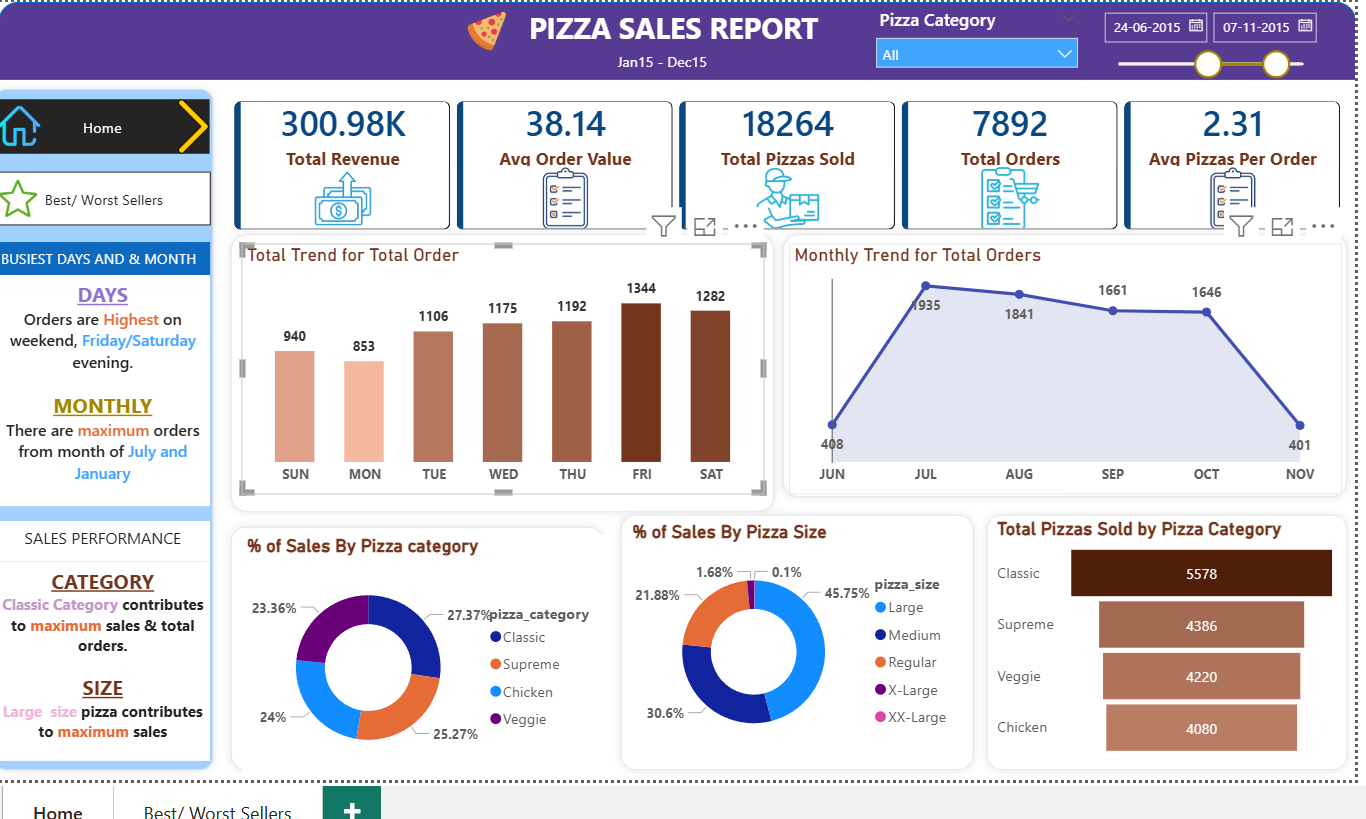

This screenshot's page, from the dashboard's own definition file:
{"tool":"powerbi","page":{"name":"Home","canvas":[1280,720],"ordinal":0},"visuals":[{"type":"cardVisual","fields":{"Data":["pizza_sales.Total Revenue","pizza_sales.Avg Order Value","pizza_sales.Total Pizzas Sold","pizza_sales.Total Orders","pizza_sales.Avg Pizzas Per Order"]},"box":[230.6,80.6,1050,141.7],"z":0},{"type":"shape","box":[23.6,0,1256.9,72.2],"z":1000},{"type":"textbox","box":[509.7,0,294.4,63.9],"z":2000},{"type":"textbox","box":[591.7,40.3,95.8,31.9],"z":3000},{"type":"image","box":[441.7,8.3,68.1,37.5],"z":4000},{"type":"shape","box":[230.6,206.9,519.4,273.6],"z":5000},{"type":"columnChart","title":"Total Trend for Total Order","fields":{"Category":["pizza_sales.Order Day"],"Y":["pizza_sales.Total Orders"]},"box":[248.6,223.6,484.7,231.9],"z":6000},{"type":"shape","box":[741.7,206.9,538.9,259.7],"z":7000},{"type":"areaChart","title":"Monthly Trend for Total Orders","fields":{"Y":["pizza_sales.Total Orders"],"Category":["pizza_sales.Order Month"]},"box":[755.6,223.6,512.5,231.9],"z":8000},{"type":"shape","box":[230.6,477.8,361.1,241.7],"z":9000},{"type":"shape","box":[591.7,466.7,343.1,252.8],"z":10000},{"type":"shape","box":[930.6,466.7,350,252.8],"z":11000},{"type":"donutChart","title":"% of Sales By Pizza category","fields":{"Category":["pizza_sales.pizza_category"],"Y":["pizza_sales.Total Revenue"]},"box":[248.6,493.1,343.1,226.4],"z":12000},{"type":"shape","box":[11.1,72.2,219.4,647.2],"z":13000},{"type":"donutChart","title":"% of Sales By Pizza Size","fields":{"Y":["pizza_sales.Total Revenue"],"Category":["pizza_sales.pizza_size"]},"box":[605.6,480.6,313.9,222.2],"z":14000},{"type":"funnel","title":"Total Pizzas Sold by Pizza Category","fields":{"Y":["pizza_sales.Total Pizzas Sold"],"Category":["pizza_sales.pizza_category"]},"box":[943.1,477.8,325,225],"z":15000},{"type":"textbox","box":[20.8,222.2,198.6,30.6],"z":16000},{"type":"textbox","box":[20.8,252.8,198.6,213.9],"z":17000},{"type":"textbox","box":[20.8,518.1,198.6,184.7],"z":18000},{"type":"textbox","box":[20.8,480.6,198.6,37.5],"z":19000},{"type":"slicer","fields":{"Values":["pizza_sales.order_date"]},"box":[1034.2,0,218,63.6],"z":20000},{"type":"slicer","fields":{"Values":["pizza_sales.pizza_category"]},"box":[826.4,0,206.9,63.9],"z":21000},{"type":"pageNavigator","box":[20.8,90.3,198.6,50],"z":22000},{"type":"pageNavigator","box":[22.2,156.9,198.6,50],"z":23000},{"type":"image","box":[177.8,90.3,52.8,50],"z":24000},{"type":"image","box":[23.6,86.1,38.9,56.9],"z":25000},{"type":"image","box":[20.8,163.9,41.7,36.1],"z":26000}]}

Visuals, with their boxes on the page's 1280x720 design canvas (x1, y1, x2, y2). These are canvas units, not pixel positions in the 1366x819 screenshot, which may show the page scaled, cropped or inside an application window:
cardVisual - pizza_sales.Total Revenue x pizza_sales.Avg Order Value: {"left": 231, "top": 81, "right": 1281, "bottom": 222}
shape: {"left": 24, "top": 0, "right": 1280, "bottom": 72}
textbox: {"left": 510, "top": 0, "right": 804, "bottom": 64}
textbox: {"left": 592, "top": 40, "right": 688, "bottom": 72}
image: {"left": 442, "top": 8, "right": 510, "bottom": 46}
shape: {"left": 231, "top": 207, "right": 750, "bottom": 480}
"Total Trend for Total Order" columnChart: {"left": 249, "top": 224, "right": 733, "bottom": 456}
shape: {"left": 742, "top": 207, "right": 1281, "bottom": 467}
"Monthly Trend for Total Orders" areaChart: {"left": 756, "top": 224, "right": 1268, "bottom": 456}
shape: {"left": 231, "top": 478, "right": 592, "bottom": 720}
shape: {"left": 592, "top": 467, "right": 935, "bottom": 720}
shape: {"left": 931, "top": 467, "right": 1281, "bottom": 720}
"% of Sales By Pizza category" donutChart: {"left": 249, "top": 493, "right": 592, "bottom": 720}
shape: {"left": 11, "top": 72, "right": 230, "bottom": 719}
"% of Sales By Pizza Size" donutChart: {"left": 606, "top": 481, "right": 920, "bottom": 703}
"Total Pizzas Sold by Pizza Category" funnel: {"left": 943, "top": 478, "right": 1268, "bottom": 703}
textbox: {"left": 21, "top": 222, "right": 219, "bottom": 253}
textbox: {"left": 21, "top": 253, "right": 219, "bottom": 467}
textbox: {"left": 21, "top": 518, "right": 219, "bottom": 703}
textbox: {"left": 21, "top": 481, "right": 219, "bottom": 518}
slicer - pizza_sales.order_date: {"left": 1034, "top": 0, "right": 1252, "bottom": 64}
slicer - pizza_sales.pizza_category: {"left": 826, "top": 0, "right": 1033, "bottom": 64}
pageNavigator: {"left": 21, "top": 90, "right": 219, "bottom": 140}
pageNavigator: {"left": 22, "top": 157, "right": 221, "bottom": 207}
image: {"left": 178, "top": 90, "right": 231, "bottom": 140}
image: {"left": 24, "top": 86, "right": 62, "bottom": 143}
image: {"left": 21, "top": 164, "right": 62, "bottom": 200}
